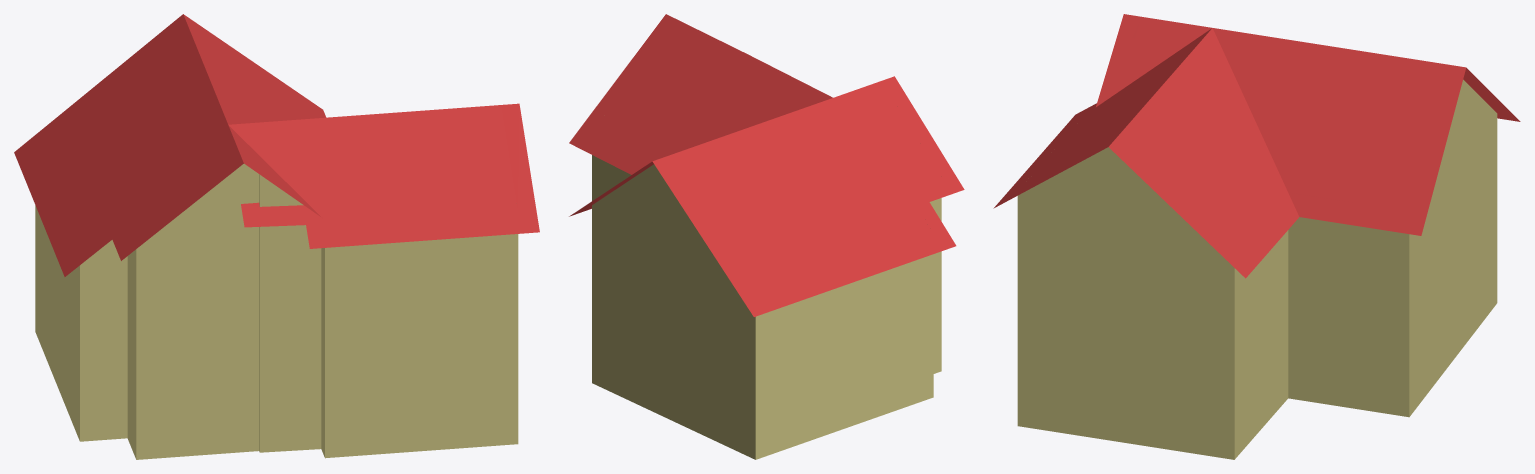
The picture shows the model from 3 angles, left to right: view 1: azimuth 30°, elevation 25°; view 2: azimuth 150°, elevation 25°; view 3: azimuth 270°, elevation 25°; orthographic projection. The views are drawn at different scales.
Size of the model in its own units: 20.28 by 20.9 by 13.19.
